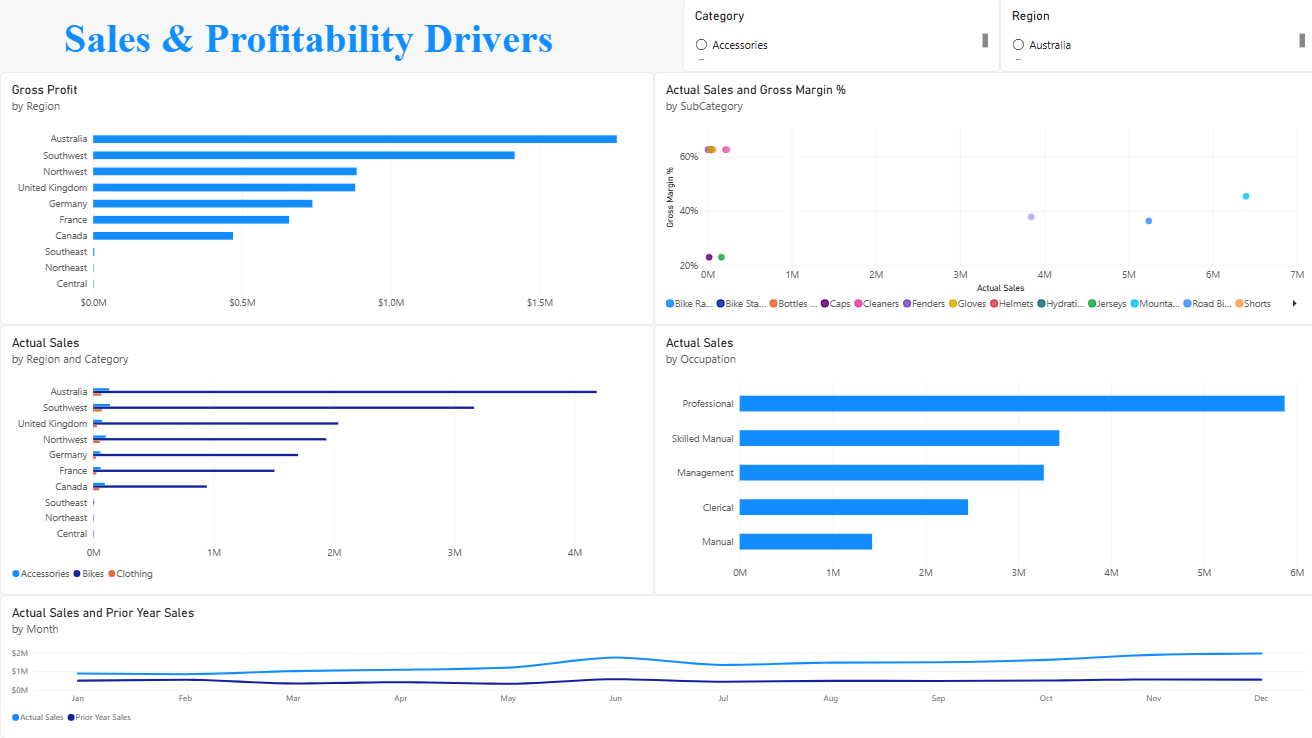

The dashboard page shown, as its layout file describes it:
{"tool":"powerbi","page":{"name":"Page 3","canvas":[1920,1080],"ordinal":2},"visuals":[{"type":"textbox","box":[93.4,26.3,767.4,103.6],"z":0},{"type":"listSlicer","fields":{"Values":["DimProduct.Category"]},"box":[996.5,0,462.5,108],"z":1000},{"type":"listSlicer","fields":{"Values":["DimTerritory.Region"]},"box":[1459,0,462.5,108],"z":2000},{"type":"barChart","fields":{"Category":["DimTerritory.Region"],"Y":["FactSales.Gross Profit"]},"box":[0,108,954.2,369.1],"z":3000},{"type":"scatterChart","fields":{"X":["FactSales.Actual Sales"],"Y":["FactSales.Gross Margin %"],"Series":["DimProduct.SubCategory"]},"box":[954.2,108,965.8,369.1],"z":4000},{"type":"clusteredBarChart","fields":{"Y":["FactSales.Actual Sales"],"Series":["DimProduct.Category"],"Category":["DimTerritory.Region"]},"box":[0,477.1,954.2,393.9],"z":5000},{"type":"barChart","fields":{"Category":["DimCustomer.Occupation"],"Y":["FactSales.Actual Sales"]},"box":[954.2,477.1,965.8,393.9],"z":6000},{"type":"lineChart","fields":{"Category":["DimDate.Month"],"Y":["FactSales.Actual Sales","FactSales.Prior Year Sales"]},"box":[0,871,1920,208.6],"z":7000}]}

Visuals, with their boxes in screenshot pixels (x1, y1, x2, y2), scaled from the page's 1920x1080 canvas onto the 1312x738 screenshot:
textbox: rect(64, 18, 588, 89)
listSlicer - DimProduct.Category: rect(681, 0, 997, 74)
listSlicer - DimTerritory.Region: rect(997, 0, 1311, 74)
barChart - DimTerritory.Region x FactSales.Gross Profit: rect(0, 74, 652, 326)
scatterChart - FactSales.Actual Sales x FactSales.Gross Margin %: rect(652, 74, 1311, 326)
clusteredBarChart - FactSales.Actual Sales x DimProduct.Category: rect(0, 326, 652, 595)
barChart - DimCustomer.Occupation x FactSales.Actual Sales: rect(652, 326, 1311, 595)
lineChart - DimDate.Month x FactSales.Actual Sales: rect(0, 595, 1311, 737)
